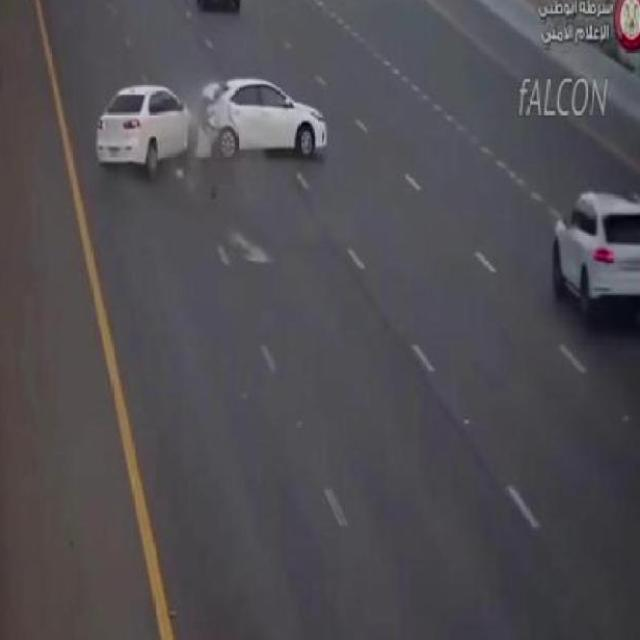accident: (95, 77, 330, 178)
